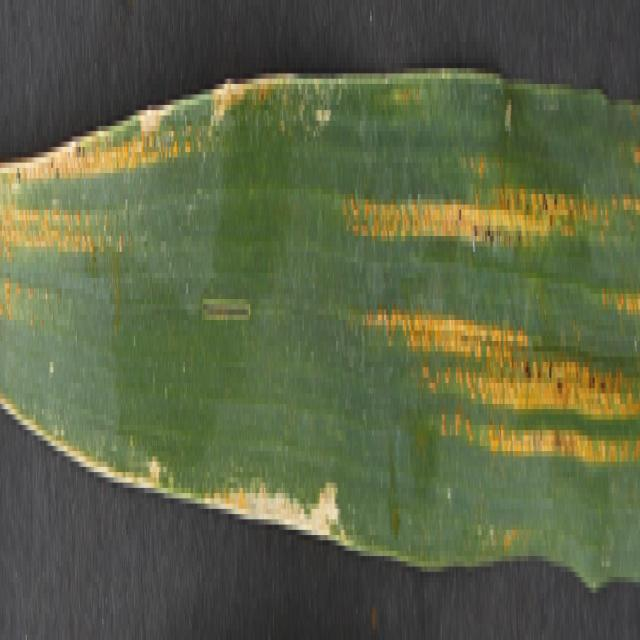leaf rust: (354, 89, 640, 551), (1, 58, 192, 346)
